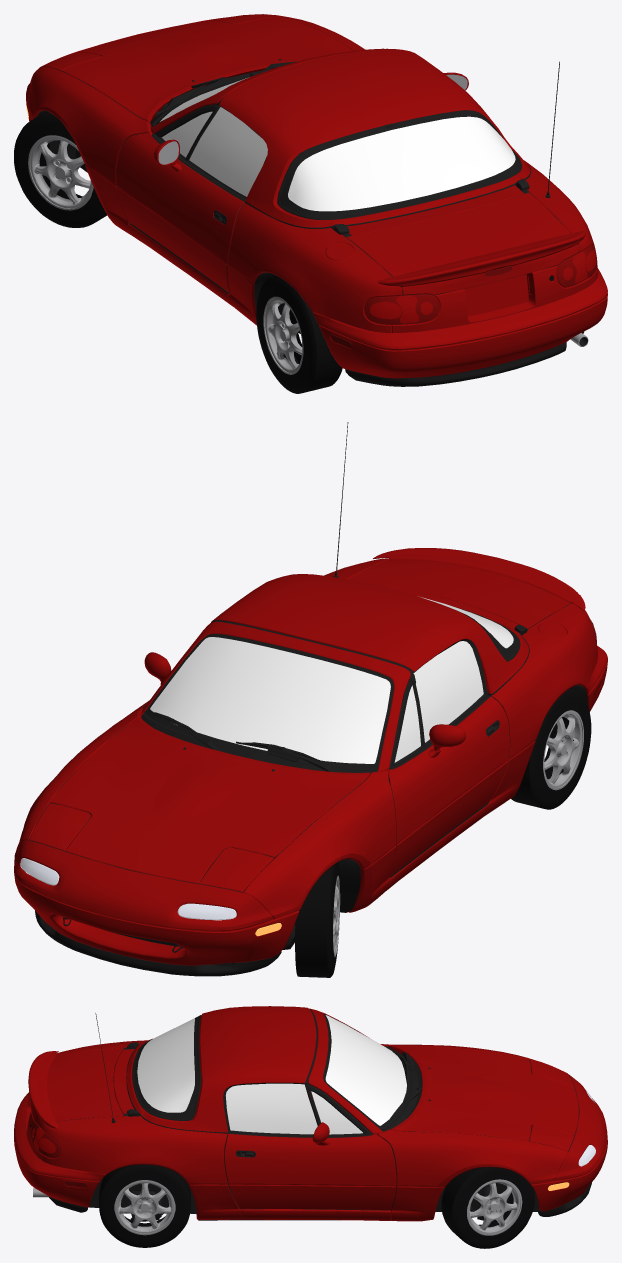
3 renders of one model, top to bottom at view 1: azimuth 30°, elevation 25°; view 2: azimuth 150°, elevation 25°; view 3: azimuth 270°, elevation 25°, orthographic. The views are drawn at different scales.
Parts seen in each view (by area): view 1: Mazda MX-5 Miata_0, R Wheel_1, F R Wheel_3; view 2: Mazda MX-5 Miata_0, R Wheel_1, F R Wheel_3; view 3: Mazda MX-5 Miata_0, R Wheel_1, F L Wheel_2.
Boxes of the visible parts, x1=… form: Mazda MX-5 Miata_0: x1=26, y1=14, x2=607, y2=386; R Wheel_1: x1=256, y1=275, x2=342, y2=393; F R Wheel_3: x1=14, y1=111, x2=107, y2=227; Mazda MX-5 Miata_0: x1=14, y1=422, x2=607, y2=976; R Wheel_1: x1=511, y1=688, x2=591, y2=809; F R Wheel_3: x1=295, y1=862, x2=340, y2=977; Mazda MX-5 Miata_0: x1=14, y1=1006, x2=607, y2=1221; R Wheel_1: x1=99, y1=1164, x2=190, y2=1247; F L Wheel_2: x1=441, y1=1167, x2=534, y2=1248.
Bounding box in the file's own units: 7.28 × 6.36 × 15.37.
